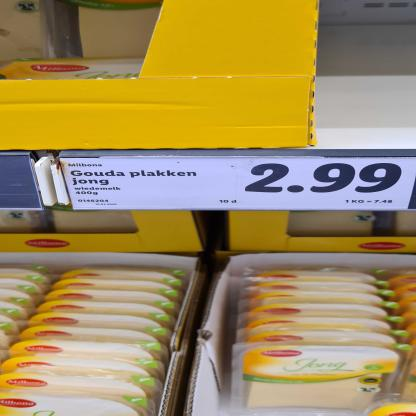prtg: (60, 158, 416, 211)
